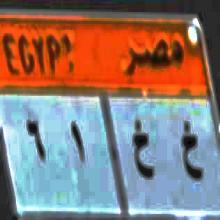1: (70, 117, 90, 179)
6: (28, 109, 47, 175)
khaa: (124, 114, 157, 196), (175, 116, 206, 190)
